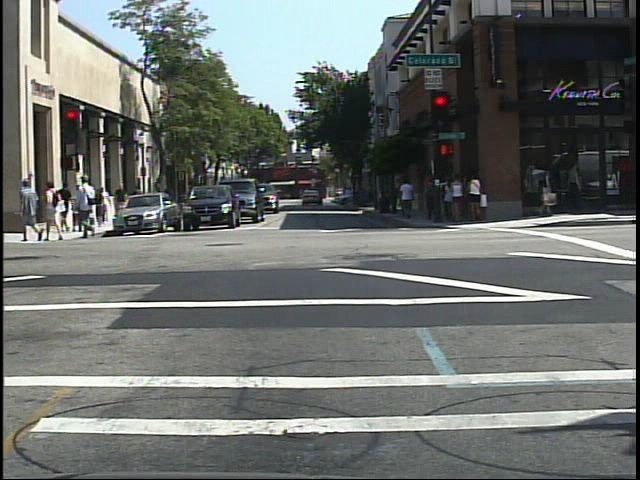person: (76, 172, 105, 244), (18, 172, 40, 245), (43, 178, 66, 246)
